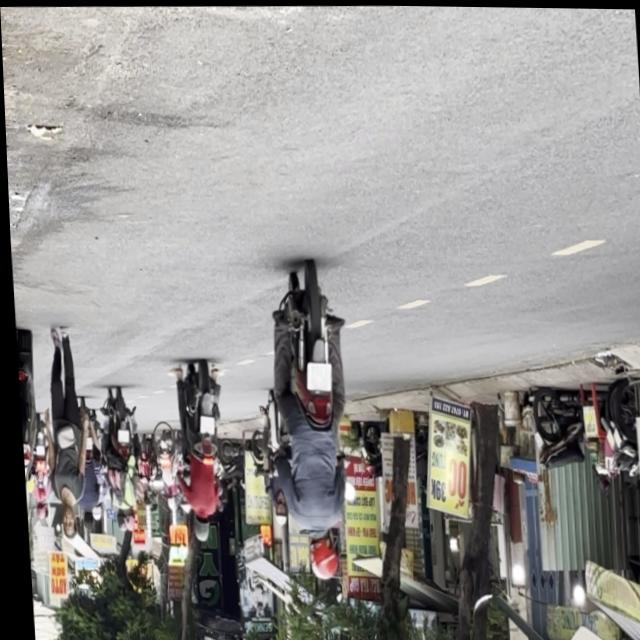helmet: (302, 530, 335, 579), (188, 514, 207, 542)
licenseplate: (257, 261, 358, 581), (167, 358, 226, 543)
nohelmet: (304, 362, 328, 390), (194, 414, 210, 434)
